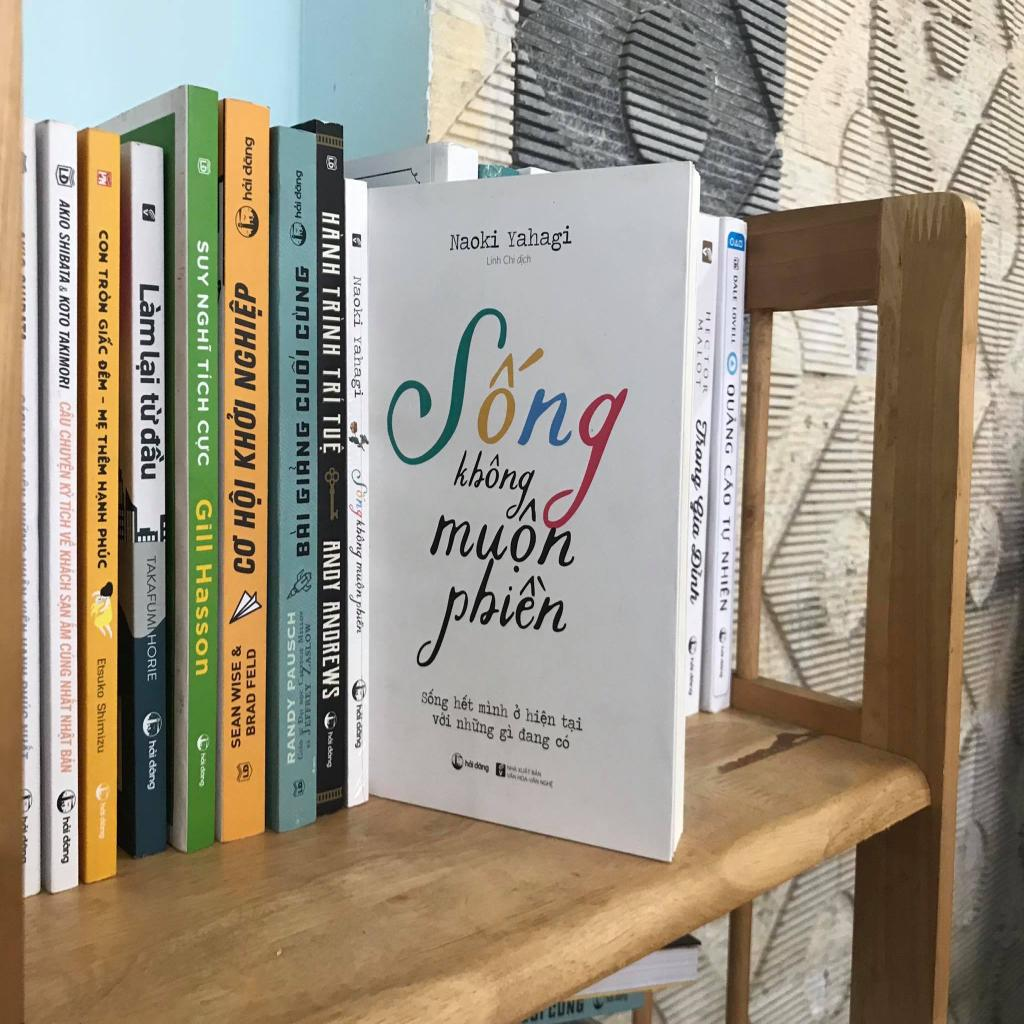text: (368, 303, 602, 474), (411, 554, 584, 683), (538, 377, 632, 541), (424, 490, 588, 582), (446, 450, 544, 520), (229, 281, 263, 395), (226, 395, 256, 471), (196, 565, 214, 677), (507, 224, 573, 253), (288, 421, 310, 504), (322, 600, 340, 700), (228, 478, 262, 530), (321, 284, 344, 358), (290, 264, 310, 342), (139, 281, 162, 348), (322, 209, 344, 277), (140, 427, 166, 482), (288, 348, 310, 412), (690, 417, 708, 493), (449, 229, 501, 252), (348, 465, 368, 522), (454, 714, 496, 741), (688, 541, 705, 606), (318, 412, 344, 454), (231, 534, 256, 576), (724, 384, 738, 455), (197, 292, 213, 354), (195, 498, 213, 553), (322, 538, 341, 590), (56, 428, 74, 481), (517, 725, 551, 753), (701, 310, 712, 395), (290, 513, 310, 559), (146, 555, 158, 631), (135, 351, 161, 385), (196, 357, 212, 412), (322, 366, 345, 404), (347, 591, 367, 634), (347, 516, 366, 560), (351, 336, 364, 400), (195, 418, 211, 468), (688, 495, 704, 542), (420, 688, 450, 713), (140, 392, 162, 426), (719, 550, 731, 612), (96, 269, 112, 315), (58, 330, 70, 391), (287, 611, 296, 692), (525, 708, 557, 730), (694, 318, 704, 388), (286, 697, 296, 765), (59, 549, 75, 591), (96, 528, 112, 570), (197, 238, 210, 288), (59, 231, 71, 285), (352, 274, 364, 328), (59, 678, 77, 713), (58, 713, 76, 748), (242, 134, 256, 179), (93, 480, 107, 524), (98, 318, 114, 356), (478, 700, 508, 720), (97, 434, 111, 476), (60, 642, 76, 678), (146, 634, 158, 682), (353, 560, 367, 599), (230, 705, 242, 750), (96, 702, 106, 755), (723, 464, 735, 506), (96, 658, 108, 699), (58, 400, 74, 430), (59, 500, 75, 530), (57, 592, 73, 620), (98, 359, 112, 391), (246, 693, 256, 737), (562, 714, 584, 734), (304, 682, 312, 736), (303, 623, 311, 677), (97, 229, 109, 264), (232, 661, 242, 703), (60, 748, 76, 774), (59, 618, 77, 641), (246, 648, 256, 689), (59, 196, 71, 230), (59, 294, 71, 328), (453, 694, 475, 712), (60, 834, 72, 866), (146, 759, 158, 791), (430, 711, 452, 728), (59, 479, 75, 501), (720, 516, 732, 544), (59, 530, 77, 548), (294, 170, 304, 200), (500, 724, 514, 745), (96, 408, 108, 431), (731, 306, 738, 345), (242, 176, 252, 202), (554, 734, 570, 750), (355, 721, 363, 750), (517, 254, 533, 268), (62, 814, 72, 836), (732, 274, 739, 304), (474, 762, 490, 775), (59, 166, 69, 186), (148, 739, 158, 759), (298, 611, 304, 644), (326, 745, 334, 769), (486, 254, 502, 266), (198, 766, 206, 788), (98, 169, 108, 186), (540, 778, 554, 790), (294, 200, 302, 220), (356, 704, 364, 722), (504, 254, 516, 266), (517, 765, 531, 775), (200, 158, 208, 174), (327, 730, 335, 746), (513, 704, 521, 720), (231, 646, 241, 658), (464, 758, 474, 770), (531, 768, 543, 778), (242, 764, 249, 780), (507, 771, 517, 781), (518, 773, 528, 783), (530, 776, 540, 786), (507, 763, 518, 772), (298, 708, 304, 724), (59, 284, 69, 293), (201, 752, 207, 766), (328, 156, 334, 170), (299, 689, 304, 705), (298, 780, 303, 796), (143, 208, 149, 218), (352, 236, 358, 246), (702, 248, 708, 258)
